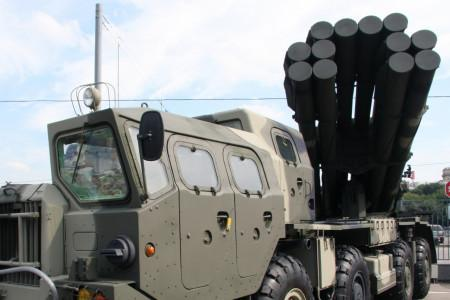rszo: (2, 12, 448, 300)
